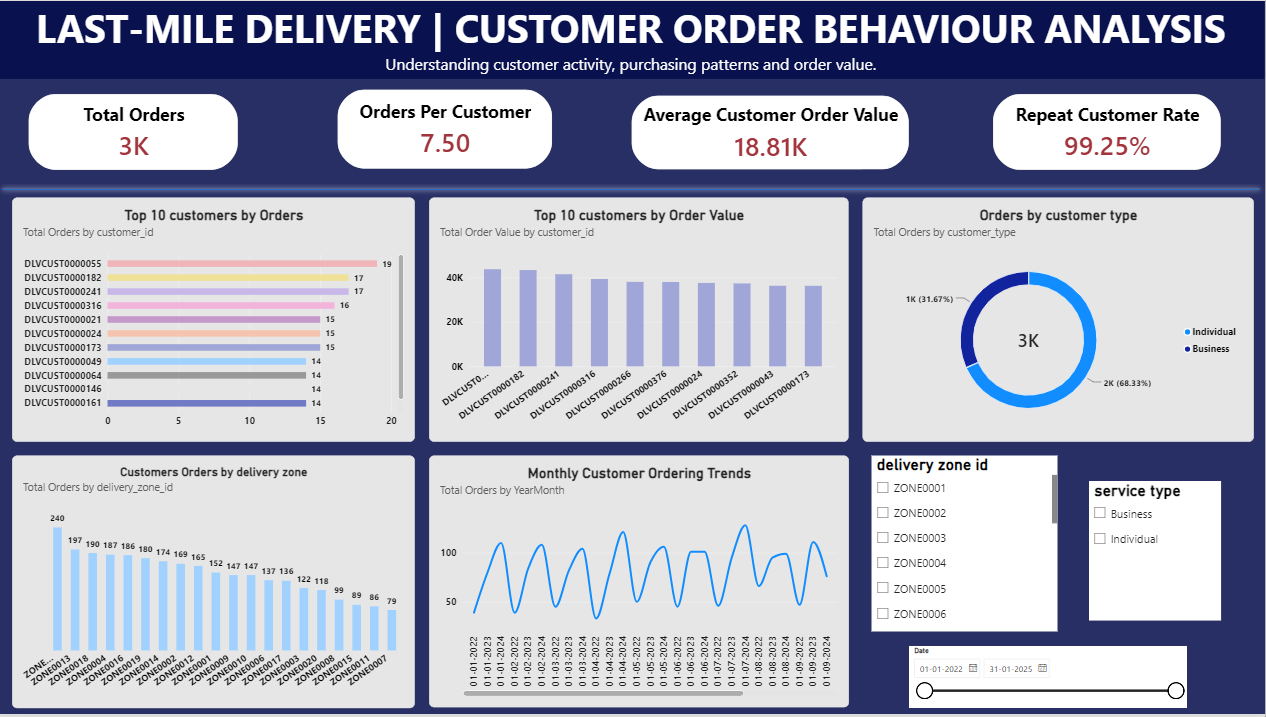

Layout of this report page (visuals, bound fields, positions):
{"tool":"powerbi","page":{"name":"Page 3","canvas":[1920,1080],"ordinal":2},"visuals":[{"type":"textbox","box":[0,0,1919.3,118.1],"z":0},{"type":"cardVisual","fields":{"Data":["Delivery Demand.Total Orders"]},"box":[47.5,140,317.5,115],"z":1000},{"type":"cardVisual","fields":{"Data":["Customer Order Behaviour.Orders per Customer"]},"box":[515,135,325,120],"z":2000},{"type":"cardVisual","fields":{"Data":["Customer Order Behaviour.Average Customer Order Value"]},"box":[960,142.5,420,112.5],"z":3000},{"type":"cardVisual","fields":{"Data":["Customer Order Behaviour.Repeat Customer Rate"]},"box":[1507.5,140,345,115],"z":4000},{"type":"shape","box":[0,272.5,1920,25],"z":5000},{"type":"clusteredBarChart","title":"Top 10 customers by Orders","fields":{"Category":["customers.customer_id"],"Y":["Delivery Demand.Total Orders"]},"box":[22.5,297.5,610,370],"z":6000},{"type":"clusteredColumnChart","title":"Top 10 customers by Order Value","fields":{"Category":["customers.customer_id"],"Y":["Delivery Demand.Total Order Value"]},"box":[655,297.5,635,370],"z":7000},{"type":"donutChart","title":"Orders by customer type","fields":{"Category":["customers.customer_type"],"Y":["Delivery Demand.Total Orders"]},"box":[1310,297.5,592.5,370],"z":8000},{"type":"clusteredColumnChart","title":"Customers Orders by delivery zone","fields":{"Category":["orders.delivery_zone_id"],"Y":["Delivery Demand.Total Orders"]},"box":[22.5,687.5,610,382.5],"z":9000},{"type":"lineChart","title":"Monthly Customer Ordering Trends","fields":{"Category":["date_table.YearMonth"],"Y":["Delivery Demand.Total Orders"]},"box":[654.1,688.2,636,381.6],"z":10000},{"type":"slicer","fields":{"Values":["orders.delivery_zone_id"]},"box":[1324.2,688.2,281.6,265.7],"z":11000},{"type":"slicer","fields":{"Values":["date_table.Date"]},"box":[1381,976.7,420.2,93.1],"z":12000},{"type":"slicer","fields":{"Values":["customers.customer_type"]},"box":[1653.5,726.8,199.9,211.2],"z":13000}]}

Visuals, with their boxes in screenshot pixels (x1, y1, x2, y2), scaled from the page's 1920x1080 canvas onto the 1266x717 screenshot:
textbox: bbox=[0, 0, 1265, 78]
cardVisual - Delivery Demand.Total Orders: bbox=[31, 93, 241, 169]
cardVisual - Customer Order Behaviour.Orders per Customer: bbox=[340, 90, 554, 169]
cardVisual - Customer Order Behaviour.Average Customer Order Value: bbox=[633, 95, 910, 169]
cardVisual - Customer Order Behaviour.Repeat Customer Rate: bbox=[994, 93, 1221, 169]
shape: bbox=[0, 181, 1265, 198]
"Top 10 customers by Orders" clusteredBarChart: bbox=[15, 198, 417, 443]
"Top 10 customers by Order Value" clusteredColumnChart: bbox=[432, 198, 851, 443]
"Orders by customer type" donutChart: bbox=[864, 198, 1254, 443]
"Customers Orders by delivery zone" clusteredColumnChart: bbox=[15, 456, 417, 710]
"Monthly Customer Ordering Trends" lineChart: bbox=[431, 457, 851, 710]
slicer - orders.delivery_zone_id: bbox=[873, 457, 1059, 633]
slicer - date_table.Date: bbox=[911, 648, 1188, 710]
slicer - customers.customer_type: bbox=[1090, 483, 1222, 623]
